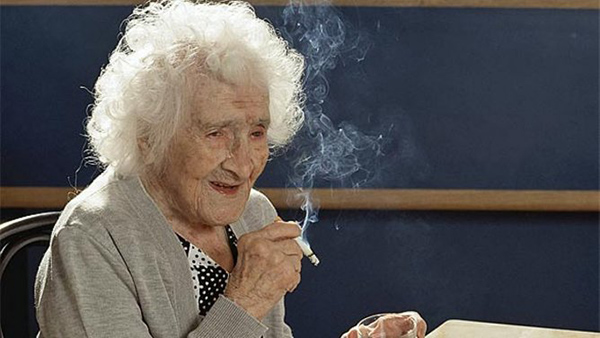cigarette: (287, 221, 323, 265)
